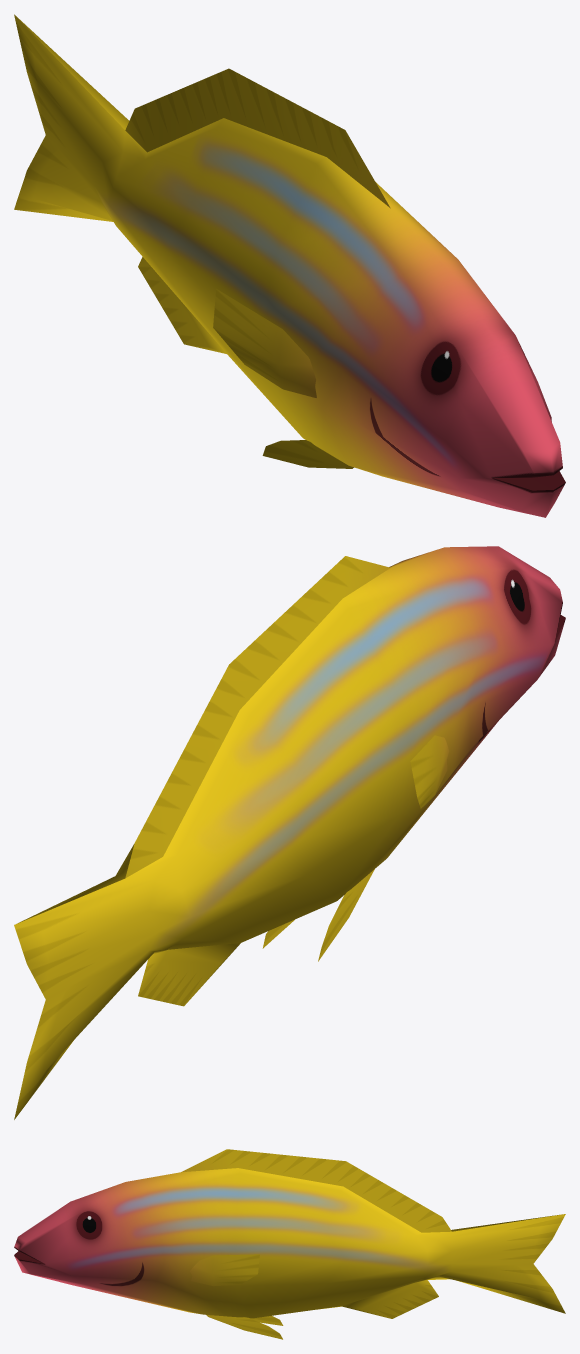
File: BlueStripeSnapper.fbx
3 views of the same model, one above another, from view 1: azimuth 30°, elevation 25°; view 2: azimuth 150°, elevation 25°; view 3: azimuth 270°, elevation 25° (orthographic). The views are drawn at different scales.
Visible parts, largest first — view 1: pCube1_pCube2_pCube2_pCube7, pPlane11, pPlane8; view 2: pCube1_pCube2_pCube2_pCube7, pPlane11, pPlane8; view 3: pCube1_pCube2_pCube2_pCube7, pPlane10, pPlane7.
Boxes of the visible parts, x1=… form: pCube1_pCube2_pCube2_pCube7: x1=14, y1=14, x2=565, y2=517; pPlane11: x1=213, y1=289, x2=316, y2=397; pPlane8: x1=262, y1=440, x2=353, y2=468; pCube1_pCube2_pCube2_pCube7: x1=14, y1=546, x2=565, y2=1119; pPlane11: x1=410, y1=735, x2=449, y2=808; pPlane8: x1=318, y1=869, x2=374, y2=961; pCube1_pCube2_pCube2_pCube7: x1=14, y1=1149, x2=565, y2=1318; pPlane10: x1=190, y1=1254, x2=259, y2=1286; pPlane7: x1=206, y1=1315, x2=282, y2=1339.
Bounding box in the file's own units: 0.9143 × 1.54 × 4.19.
Materials: 1 (1 with a texture image).
